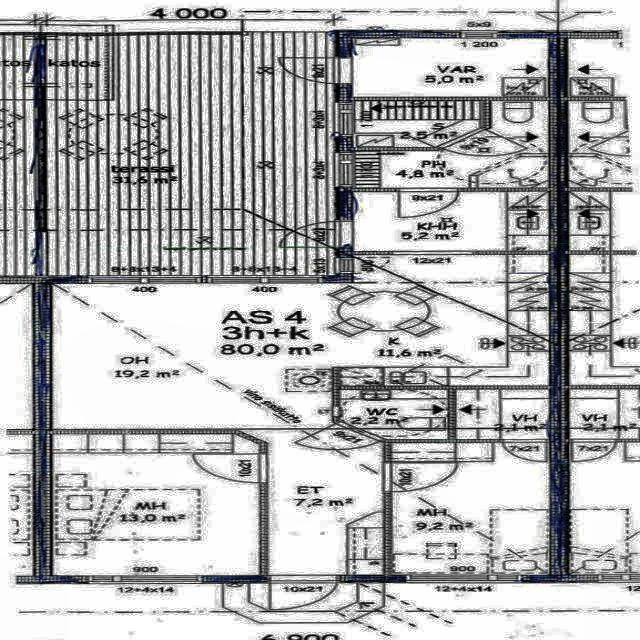room: (52, 432, 261, 575), (392, 442, 549, 575), (356, 101, 548, 188), (352, 38, 549, 97), (353, 192, 549, 251), (354, 100, 480, 147), (340, 388, 448, 440)
